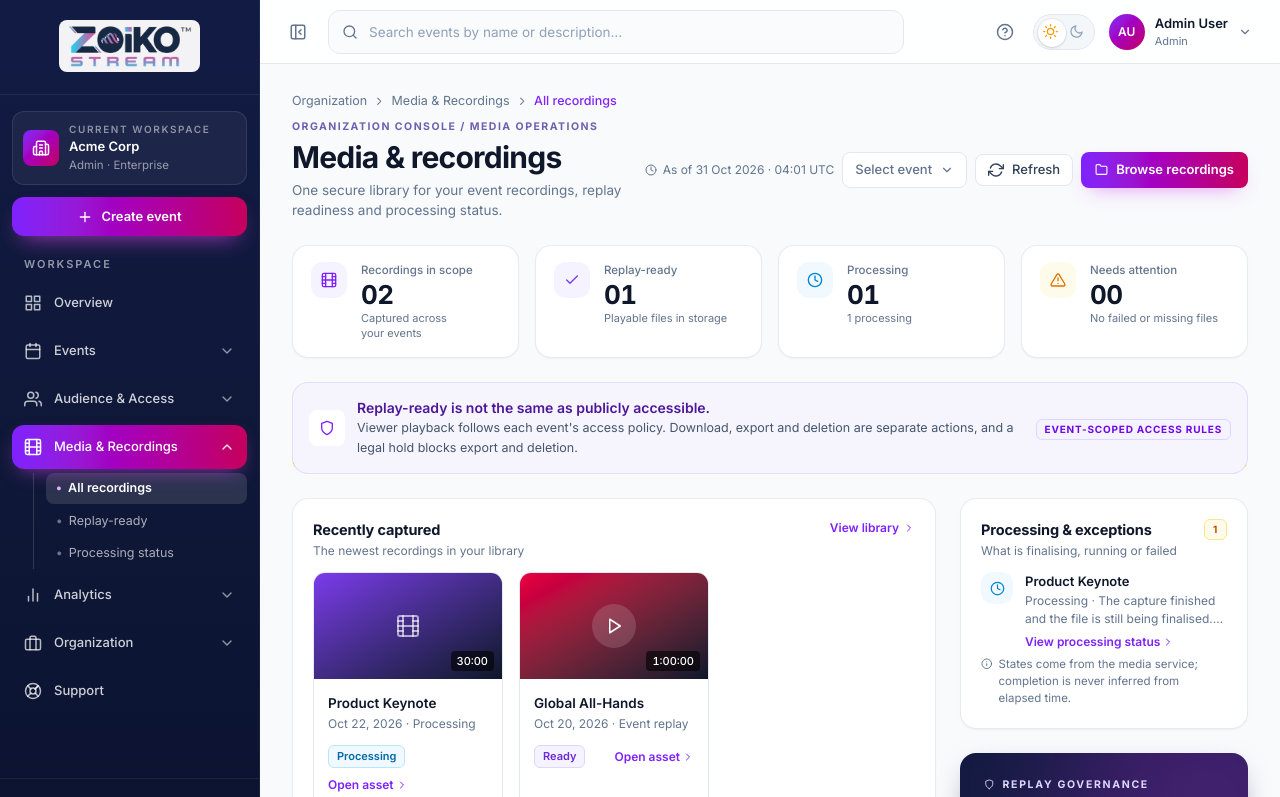
Scenario: Media & Recordings Parent and Child Navigation › navigates independently to child views like Replay-ready and Processing status
Expected: the heading "Media & recordings" is shown, [292, 138, 562, 174]
Step 1. Click the link "•Replay-ready" → (102, 520), box [56, 512, 148, 528]
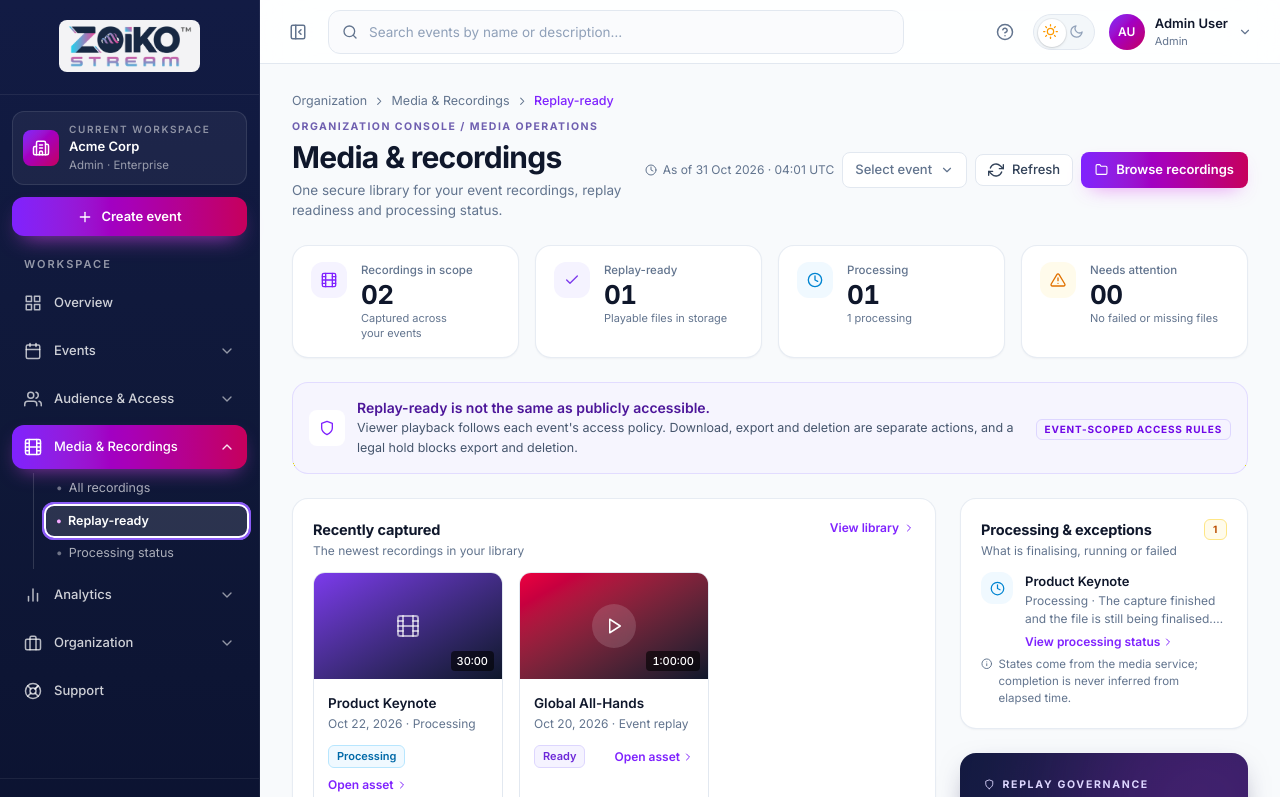
Expected: the link "•Replay-ready" is marked as current, [46, 506, 247, 536]
// Processing status
Step 2. Click the link "•Processing status" → (115, 553), box [56, 545, 174, 560]
(page scrolled)
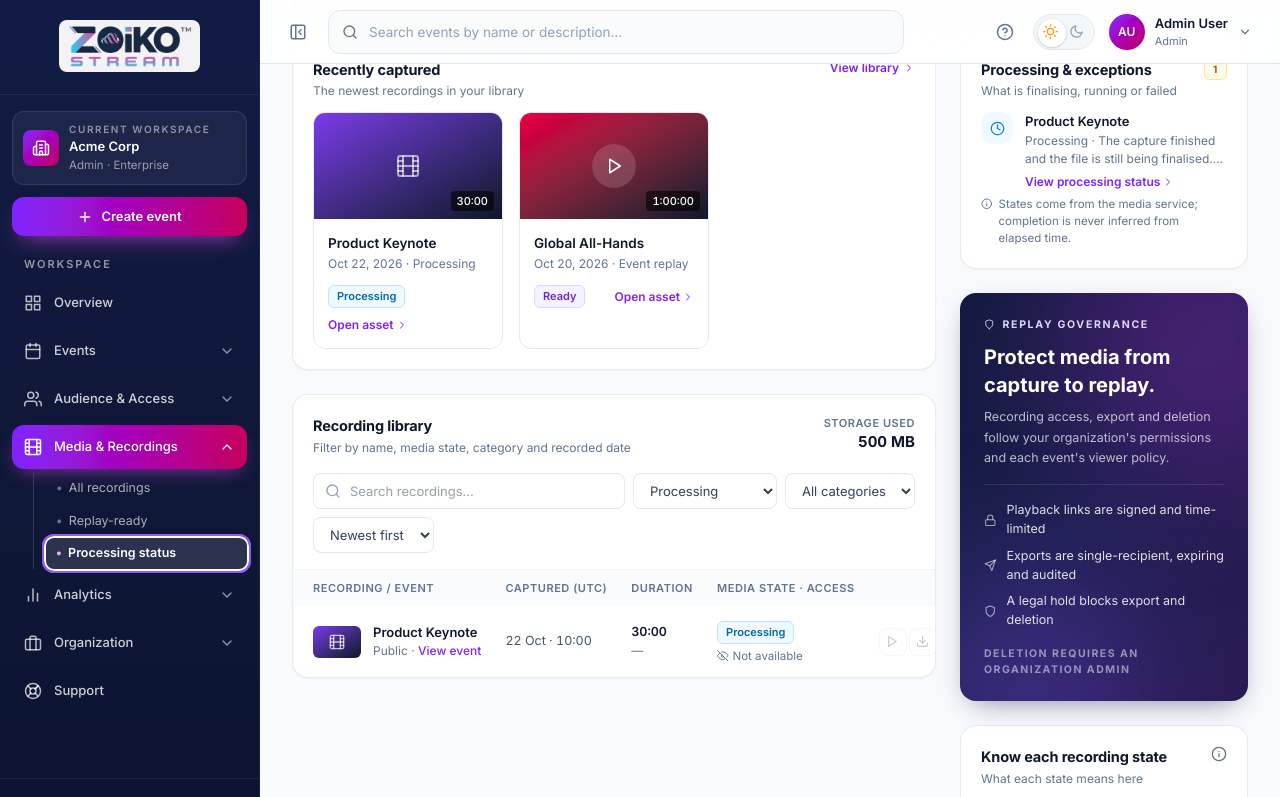
Expected: the dropdown named "Filter by state" shows "Processing", [633, 473, 777, 509]
